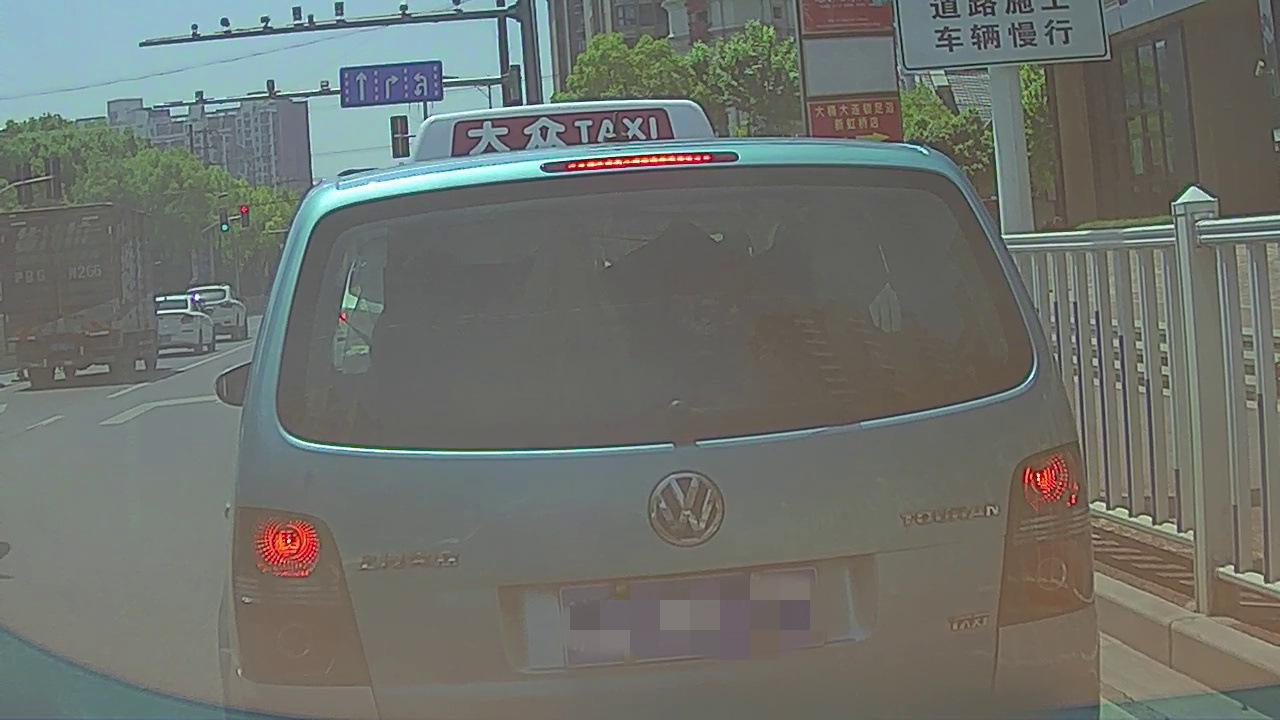traffic_light: (219, 208, 230, 232), (239, 204, 249, 228)
